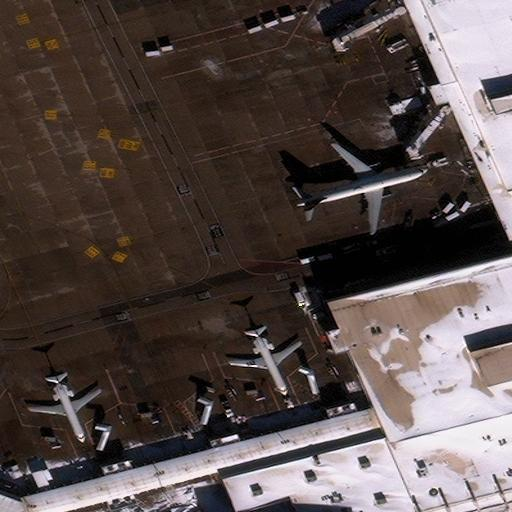Medium Civil Transport: (299, 145, 425, 228), (29, 374, 100, 442), (230, 328, 302, 395)
